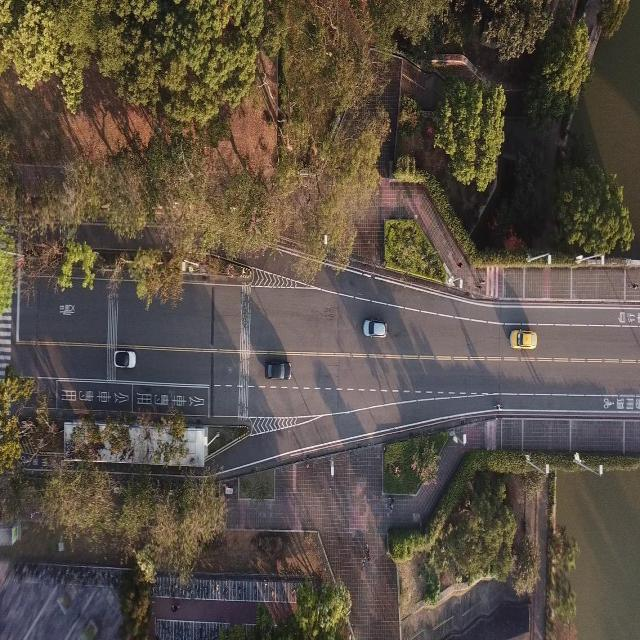car: (264, 359, 292, 380), (509, 329, 537, 350), (362, 318, 387, 338), (114, 349, 136, 369)
